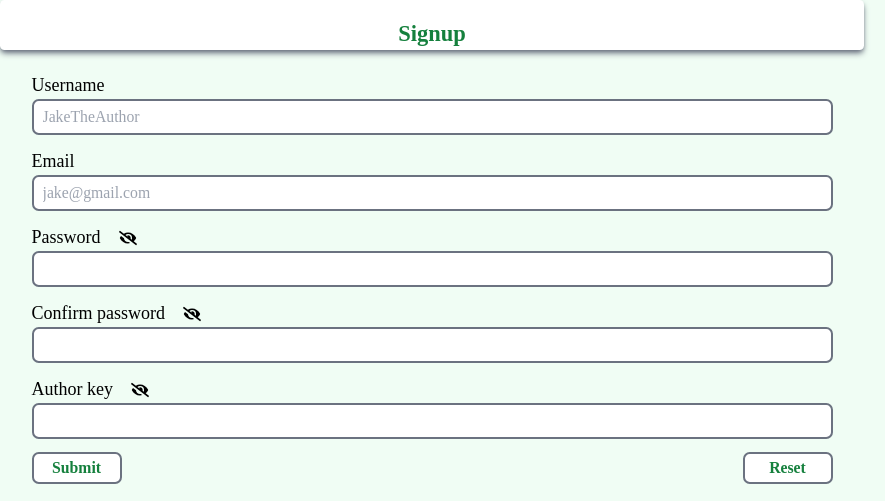
Scenario: signup form tests › form interactions › redirect to login page when input data is correct
Type "testname" into the field labelled "Username".
click(432, 117); type("testname")  # box [32,99,832,134]
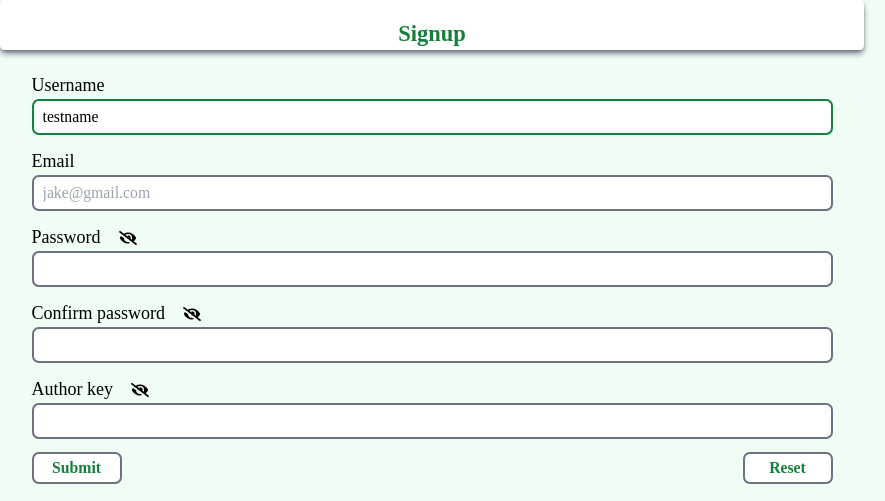
Type "testemail@gmail.com" into the field labelled "Email".
click(432, 193); type("testemail@gmail.com")  # box [32,175,832,210]
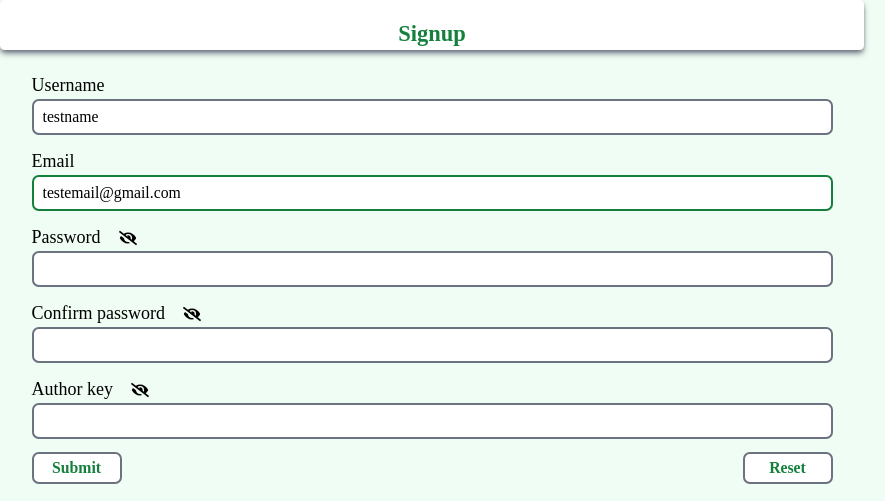
Type "Testpassword123@" into the password field labelled "Password".
click(432, 269); type("Testpassword123@")  # box [32,251,832,286]
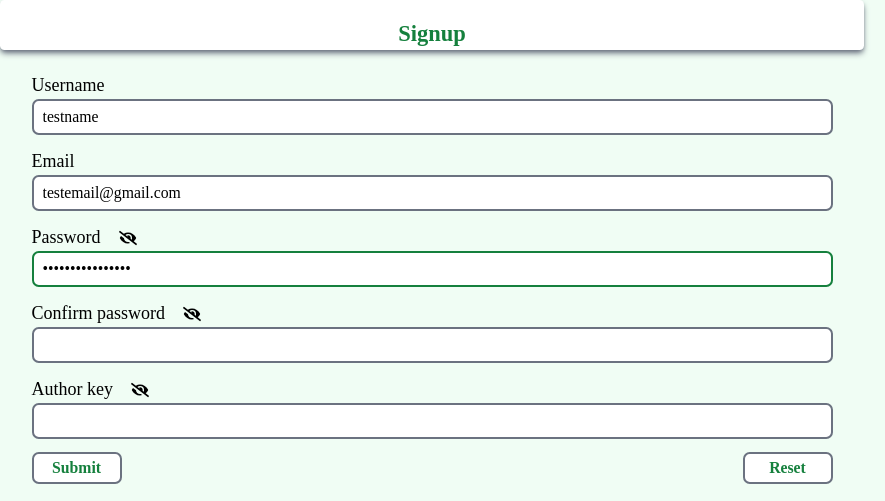
Type "Testpassword123@" into the password field labelled "Confirm password".
click(432, 345); type("Testpassword123@")  # box [32,327,832,362]
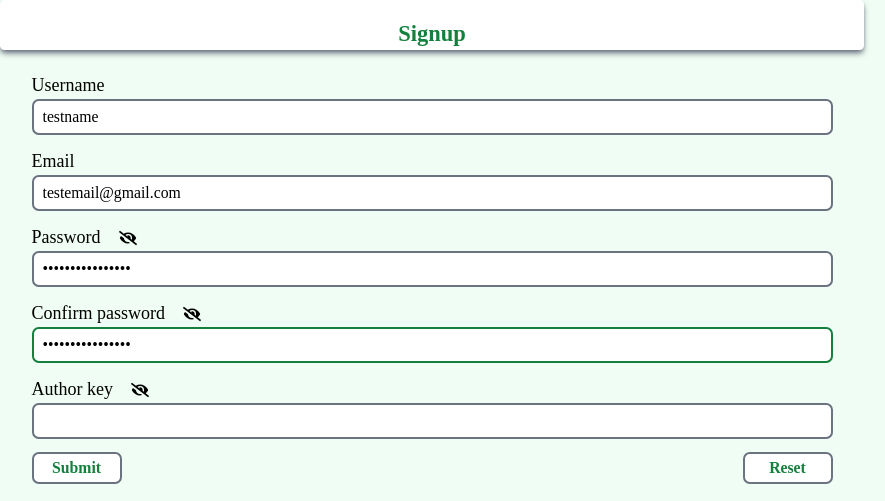
Type "Correctauthorkey" into the password field labelled "Author key".
click(432, 421); type("Correctauthorkey")  # box [32,403,832,438]
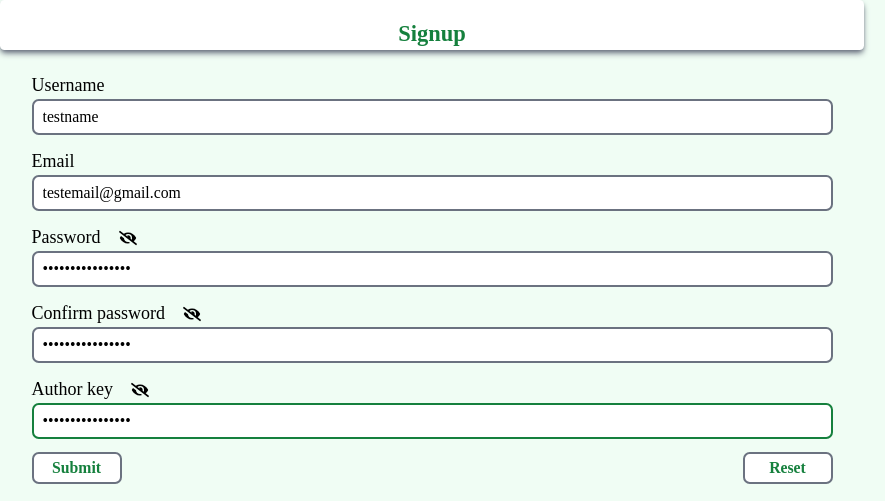
Click the button "Submit".
click(76, 468)  # box [32,452,122,484]
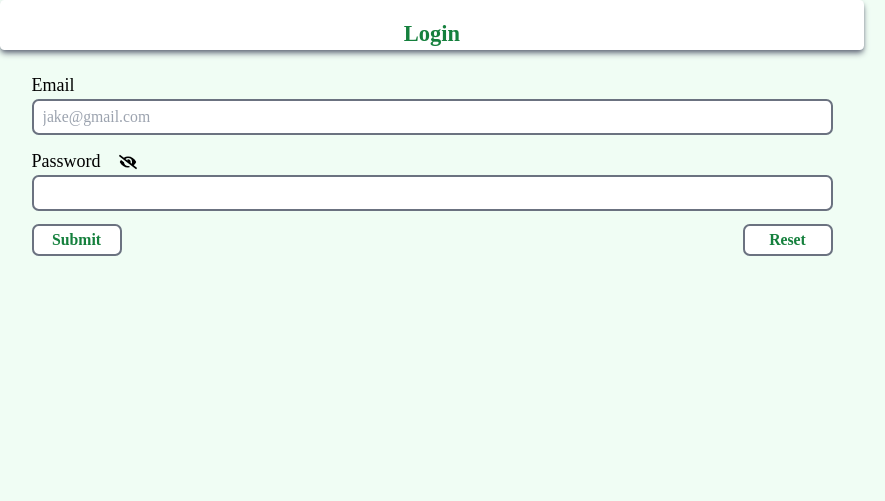
Result: the heading "Login" is shown at [404,21,460,46]
